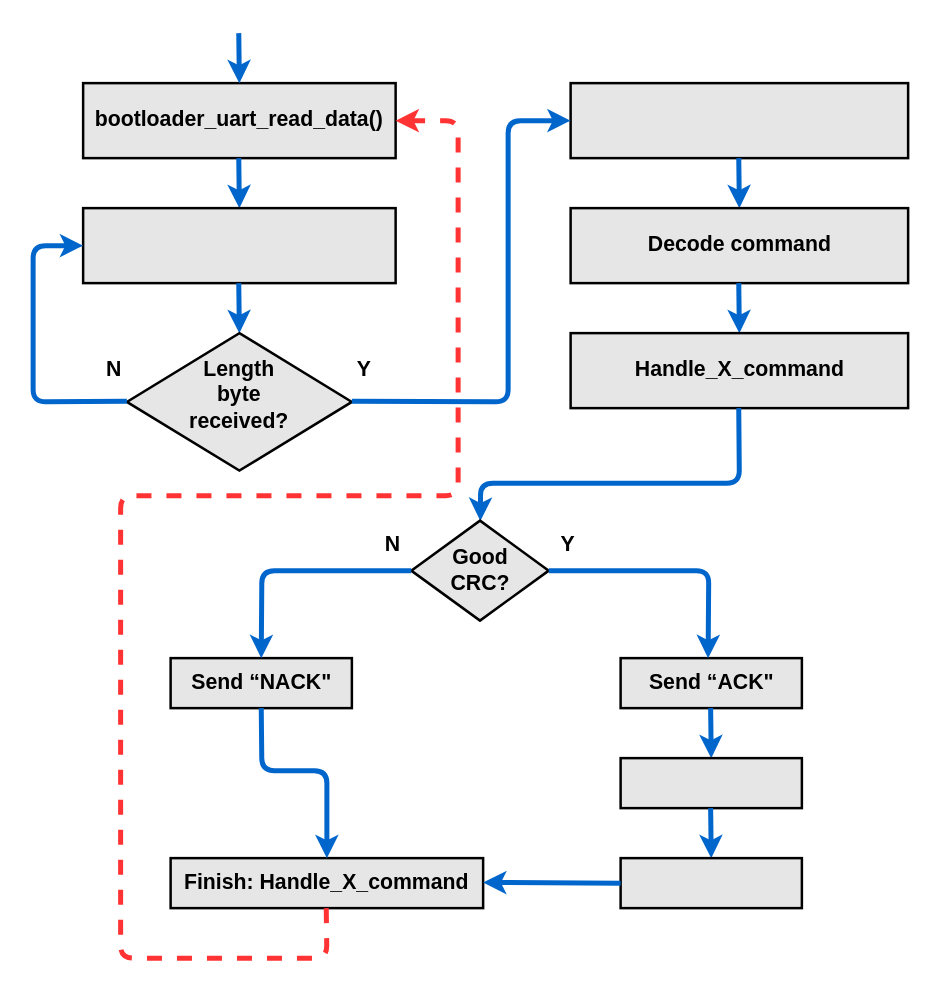
The diagram is 930 pixels wide and 991 high, and some of its shapes have lost their labels. The shapes that lost their labels are listed below. From the top down, each one's centre as x and y in pixels, then its label:
the point at 739,120: Read “ length" number of bytes
the point at 238,245: Poll UART for data
the point at 710,782: Obtain reply
the point at 710,882: Send reply
